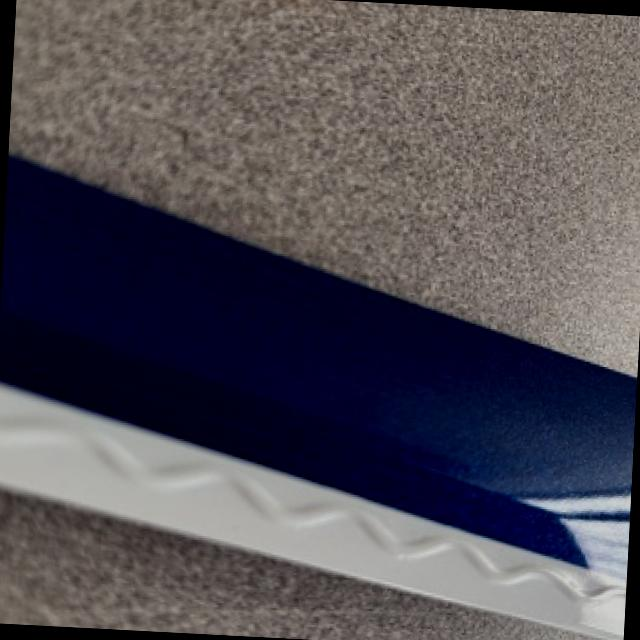healthy: (8, 0, 640, 373), (0, 489, 610, 640)
